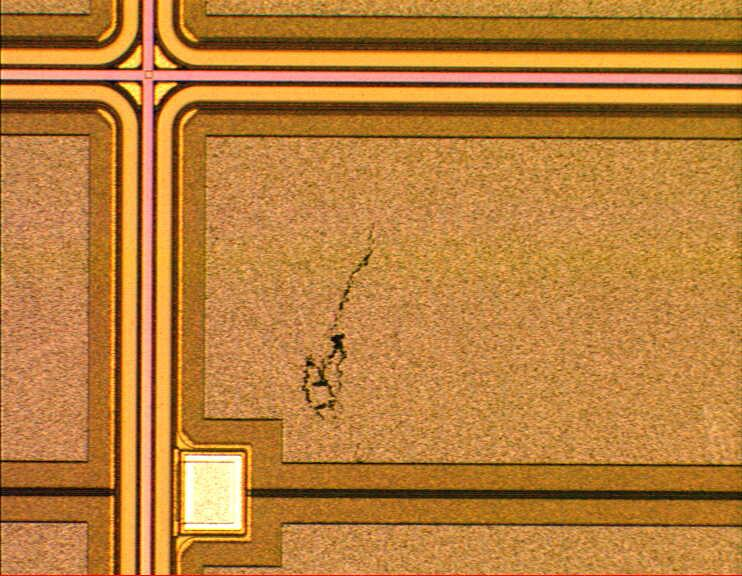SCRATCH: (297, 214, 390, 445)
